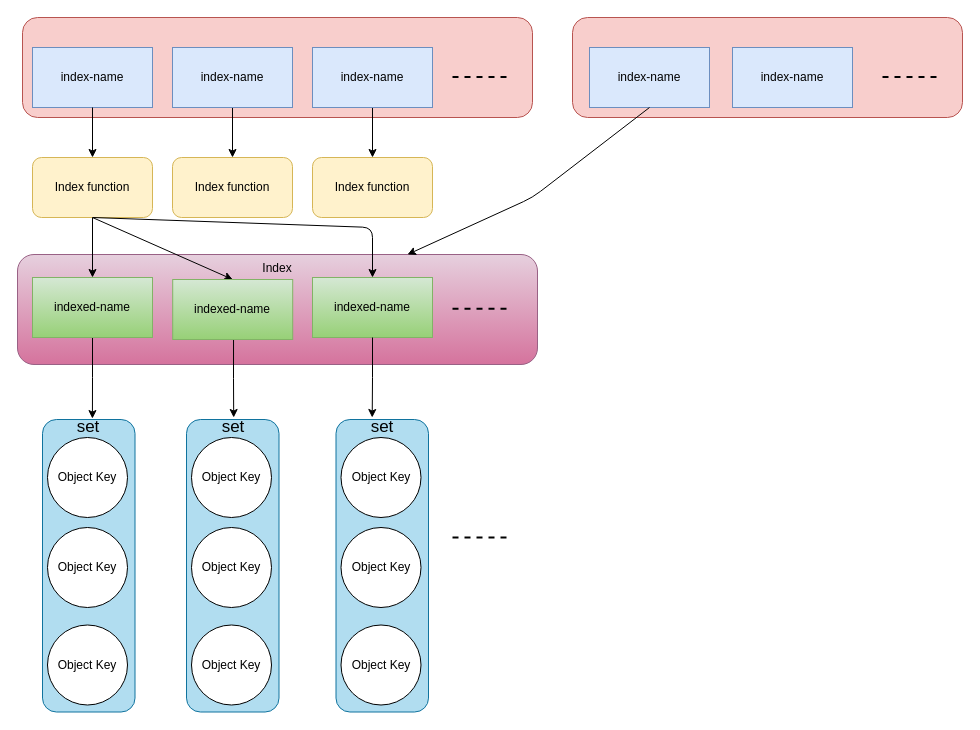
This 980x730 diagram has some shape labels left out. The box of each missing label's shape, as (x1, y1, x2, y2) in pixels:
Indexer: (22, 16, 532, 118)
Indices: (572, 16, 962, 118)
